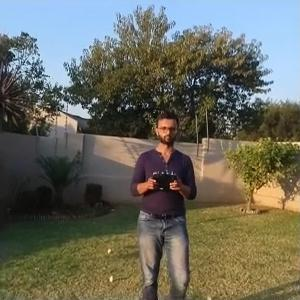follow: (125, 106, 202, 298)
